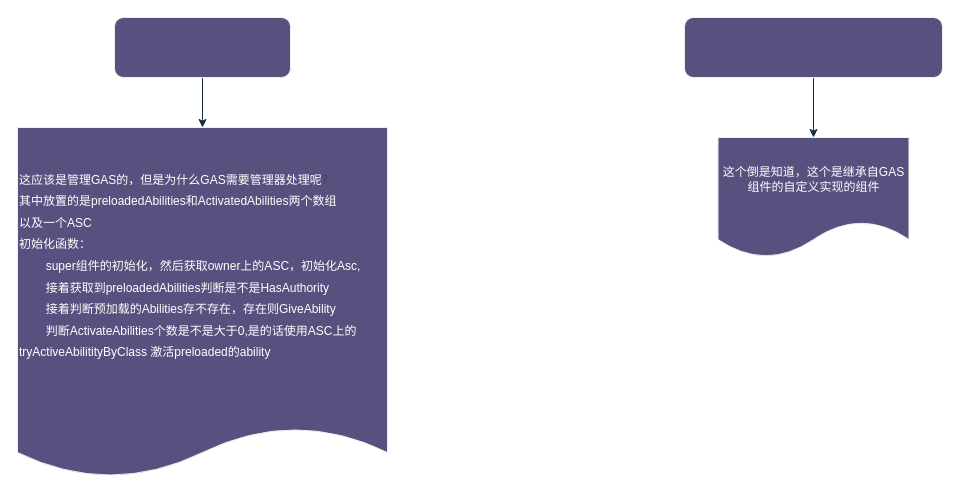
Image size: 960x495. Some labels were removed from this diagram. The shapes that lost their labels are listed below. From the top down, each one's centre as x and y in pixels, then its label:
the point at 202,47: GASManagerComponent
the point at 813,47: MyAbilitySystemComponent
